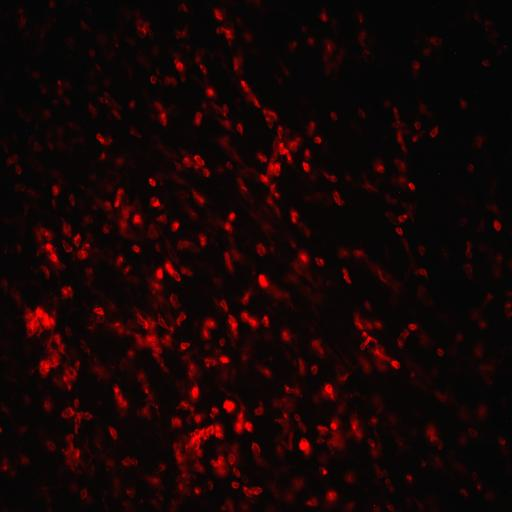microglia: (358, 28, 375, 62), (36, 304, 56, 330), (384, 98, 403, 124), (163, 232, 178, 262), (111, 384, 128, 410), (163, 258, 180, 283), (238, 309, 258, 329), (276, 143, 297, 162), (210, 454, 227, 476), (44, 244, 61, 266), (482, 363, 497, 386), (186, 432, 206, 449), (133, 311, 149, 332), (34, 360, 56, 375), (322, 380, 336, 402), (360, 177, 377, 194), (268, 160, 286, 176), (396, 328, 409, 349), (146, 334, 161, 352), (4, 152, 24, 165), (87, 103, 102, 120), (374, 462, 389, 479), (222, 250, 234, 271), (498, 430, 510, 451), (299, 438, 312, 457), (243, 486, 265, 497), (194, 188, 206, 208), (373, 347, 390, 361), (436, 391, 453, 405), (229, 314, 239, 337), (468, 426, 480, 445), (235, 410, 244, 435), (147, 195, 164, 208), (78, 338, 91, 355), (342, 266, 353, 286), (351, 420, 363, 438), (187, 385, 201, 400), (212, 274, 226, 289), (358, 336, 377, 347), (263, 314, 274, 332), (147, 178, 161, 192), (129, 127, 144, 140), (417, 265, 429, 281), (378, 268, 388, 287), (258, 273, 269, 290), (114, 187, 123, 207), (193, 153, 204, 169), (427, 427, 438, 443), (330, 432, 341, 448), (112, 107, 122, 124), (222, 399, 234, 413), (95, 132, 107, 146), (151, 281, 163, 295), (152, 99, 166, 111), (2, 404, 14, 418), (323, 172, 337, 184), (66, 365, 78, 379), (410, 60, 424, 72), (298, 250, 309, 265), (494, 218, 503, 236), (333, 190, 342, 208), (477, 401, 486, 419), (158, 314, 168, 330), (343, 471, 359, 481), (64, 325, 74, 341), (386, 477, 396, 493), (289, 136, 300, 150), (223, 26, 234, 40), (80, 18, 91, 32), (353, 316, 363, 331), (59, 410, 74, 420), (286, 488, 296, 503), (505, 300, 512, 321), (202, 164, 211, 180), (301, 162, 313, 174), (228, 479, 240, 491), (326, 490, 338, 502), (390, 358, 402, 370), (338, 370, 350, 382), (288, 431, 294, 455), (475, 135, 484, 151), (236, 122, 246, 136), (290, 211, 300, 225), (174, 59, 184, 73), (362, 297, 372, 311), (460, 486, 470, 500), (275, 446, 285, 460), (397, 159, 407, 173), (326, 112, 340, 122), (288, 38, 298, 52), (28, 318, 36, 335), (277, 122, 284, 141), (132, 214, 143, 226), (375, 162, 386, 174), (251, 441, 262, 453), (317, 423, 328, 435), (19, 456, 31, 467), (429, 127, 440, 139), (432, 35, 443, 47), (132, 243, 142, 256), (241, 81, 251, 94), (63, 433, 76, 443), (126, 98, 136, 111), (346, 499, 356, 512), (156, 266, 164, 282), (150, 224, 158, 240), (461, 99, 470, 113), (259, 174, 270, 185), (484, 490, 495, 501), (240, 501, 251, 512), (182, 156, 192, 168), (408, 182, 418, 194), (94, 308, 106, 318), (172, 418, 184, 428), (202, 324, 210, 339), (257, 242, 267, 254), (135, 334, 145, 346), (304, 498, 316, 508), (46, 442, 58, 452), (456, 328, 464, 343), (293, 478, 305, 488), (20, 8, 26, 28), (194, 111, 202, 125), (282, 330, 290, 344), (221, 298, 228, 314), (80, 486, 88, 500), (227, 496, 234, 512), (358, 107, 366, 121), (330, 419, 340, 430), (220, 355, 230, 366), (410, 322, 420, 333), (78, 249, 88, 260), (398, 211, 408, 222), (48, 0, 58, 11), (179, 4, 189, 15), (159, 113, 168, 125), (181, 340, 190, 352), (43, 228, 52, 240), (71, 398, 83, 407), (99, 94, 108, 106), (172, 219, 180, 232), (200, 235, 208, 248), (206, 424, 214, 437), (421, 49, 434, 57), (176, 448, 182, 465), (120, 208, 130, 218), (394, 226, 404, 236), (122, 457, 132, 467), (242, 293, 251, 304), (125, 489, 136, 498), (245, 420, 252, 434), (224, 221, 232, 233), (110, 428, 118, 440), (51, 184, 59, 196), (74, 232, 80, 248), (163, 334, 171, 346), (216, 8, 224, 20), (466, 243, 472, 259), (474, 346, 482, 358), (88, 47, 96, 59), (24, 394, 32, 406), (62, 224, 71, 234), (298, 358, 304, 373), (254, 406, 263, 416), (373, 502, 382, 512), (312, 136, 323, 144), (258, 154, 269, 162), (54, 334, 62, 345), (101, 226, 112, 234), (43, 107, 51, 118), (385, 504, 396, 512), (176, 312, 182, 326), (170, 292, 176, 306), (205, 357, 217, 364), (358, 11, 364, 25), (139, 26, 148, 35), (227, 212, 237, 220), (405, 473, 413, 483), (116, 255, 124, 265), (206, 320, 216, 328), (268, 110, 278, 118), (321, 14, 329, 24), (84, 412, 92, 422), (293, 413, 303, 421), (299, 424, 307, 434), (64, 82, 72, 92), (64, 98, 74, 106), (40, 84, 48, 94), (482, 58, 490, 68), (66, 283, 72, 296), (321, 467, 329, 476), (76, 444, 80, 462), (312, 336, 318, 348), (195, 412, 201, 424), (206, 88, 214, 97), (254, 96, 260, 108), (326, 42, 332, 54), (14, 167, 23, 175), (264, 367, 271, 377), (285, 384, 292, 394), (311, 364, 318, 374), (234, 58, 239, 72), (132, 457, 139, 467), (18, 427, 28, 434), (117, 157, 124, 167), (420, 459, 427, 469), (229, 453, 235, 464), (438, 343, 444, 354), (416, 120, 422, 131), (307, 121, 315, 129), (318, 347, 326, 355), (340, 250, 348, 258), (241, 355, 249, 363), (241, 184, 248, 193), (210, 406, 219, 413), (282, 411, 289, 420), (154, 243, 161, 252), (270, 183, 276, 193), (315, 260, 325, 266), (119, 221, 127, 228), (304, 148, 311, 156), (153, 476, 160, 484), (104, 200, 111, 208), (188, 363, 195, 371), (187, 371, 195, 378), (58, 87, 66, 94), (53, 99, 60, 107), (32, 73, 40, 80), (216, 431, 224, 438), (466, 165, 474, 172), (149, 321, 154, 332), (157, 216, 166, 222), (396, 133, 402, 142), (244, 475, 250, 484), (181, 401, 188, 408), (196, 464, 203, 471), (274, 190, 280, 198), (370, 416, 376, 424), (118, 326, 124, 334), (366, 322, 372, 330), (125, 268, 131, 276), (182, 311, 186, 323), (58, 346, 66, 352), (264, 116, 272, 122), (152, 352, 160, 358), (2, 464, 8, 472), (74, 422, 80, 430), (471, 471, 477, 479), (56, 80, 64, 86), (306, 38, 312, 46), (182, 267, 187, 276), (77, 412, 81, 423), (411, 370, 415, 381), (194, 489, 200, 496), (144, 408, 150, 415), (215, 424, 222, 430), (62, 288, 67, 296), (355, 251, 363, 256), (478, 482, 482, 492), (226, 162, 234, 167), (144, 386, 148, 395), (128, 350, 134, 356), (375, 322, 381, 328), (199, 62, 203, 71), (44, 403, 50, 409), (114, 322, 121, 327), (216, 27, 221, 34), (371, 440, 375, 448), (268, 198, 272, 206), (236, 470, 240, 478), (412, 137, 418, 142), (178, 485, 184, 490), (102, 152, 105, 162), (67, 384, 72, 390), (225, 120, 230, 126), (362, 332, 369, 336), (220, 341, 224, 348), (38, 326, 42, 333), (170, 325, 173, 333), (256, 248, 260, 254), (232, 466, 236, 472), (182, 473, 186, 478), (189, 406, 194, 410), (206, 363, 210, 368), (263, 108, 266, 114), (204, 70, 206, 74)
